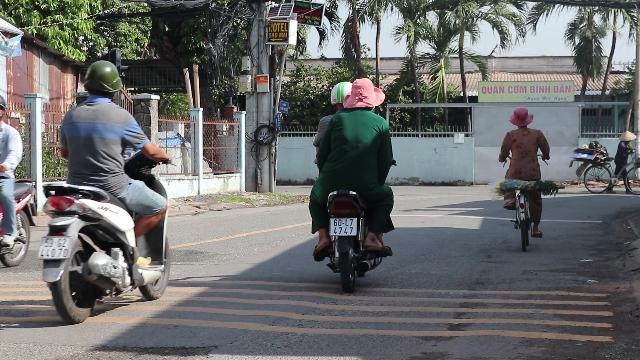helmet: (80, 59, 122, 103), (328, 80, 354, 110)
licenseplate: (38, 237, 70, 259), (331, 218, 357, 234)
motorcyclist: (36, 59, 176, 321), (302, 77, 400, 287)
nohelmet: (345, 77, 385, 112)
